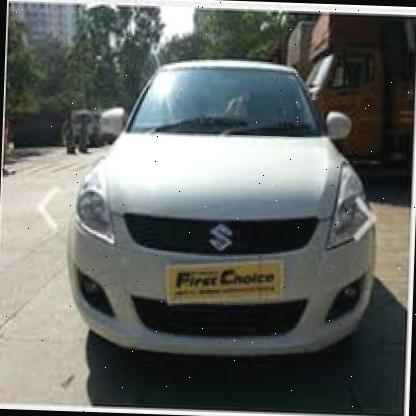car: (54, 45, 392, 372)
